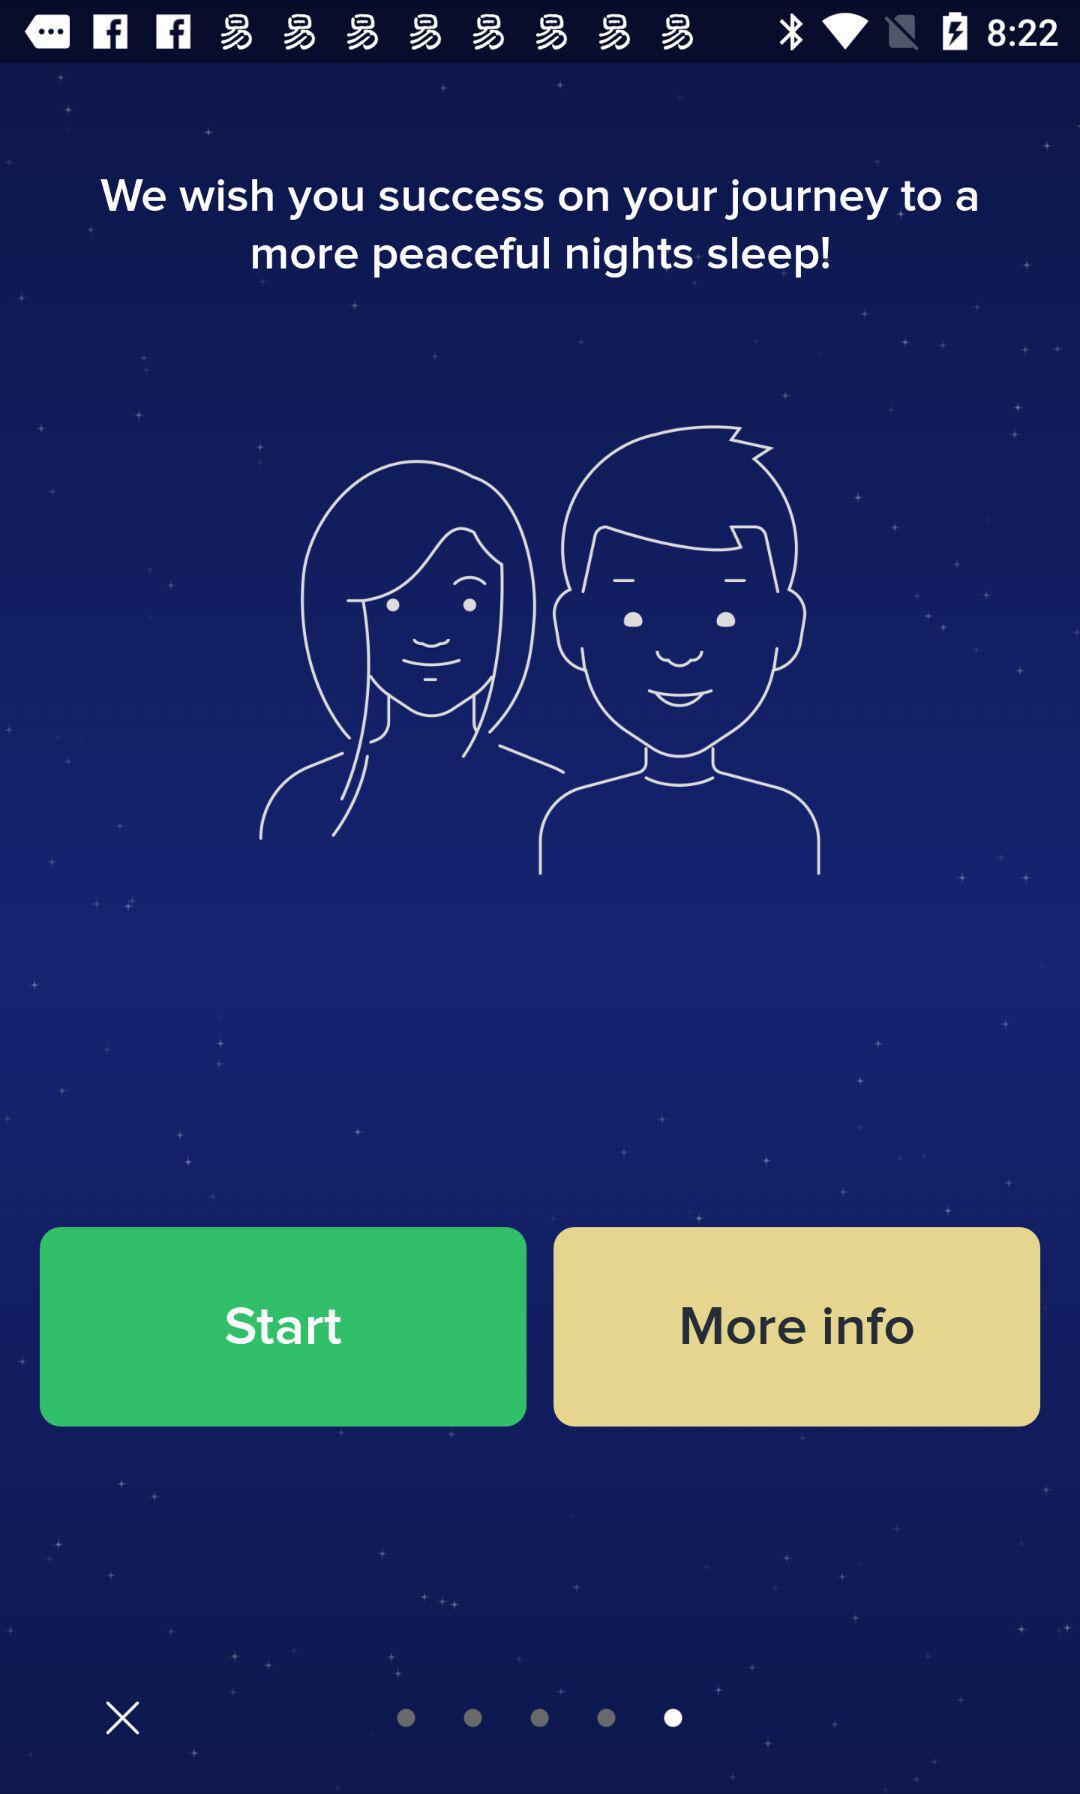Icon: (102, 1700, 142, 1738)
Image: (254, 424, 822, 876)
PageIndicator: (395, 1706, 684, 1730)
Text: (100, 178, 979, 281)
TextButton: (552, 1228, 1042, 1428), (40, 1228, 528, 1428)
UpperTaskBar: (1, 1, 1080, 64)
